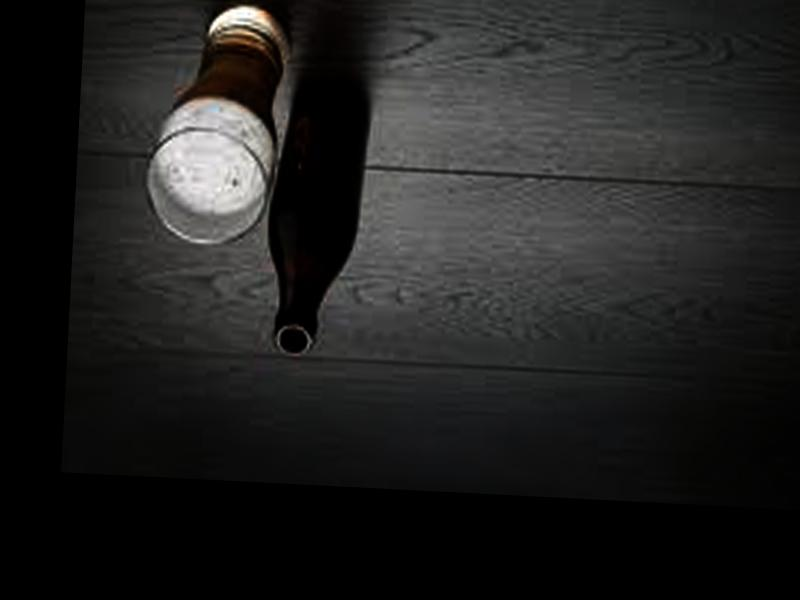Beer: (259, 68, 373, 362)
